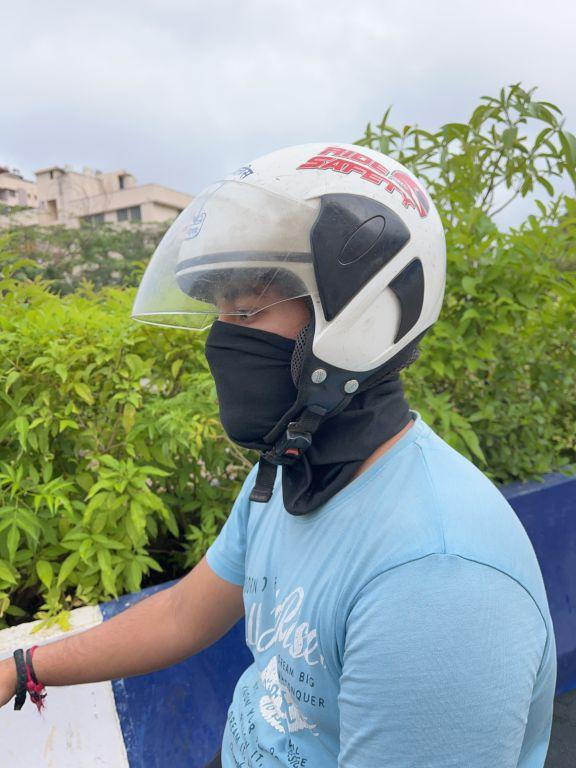helmet: (124, 127, 449, 470)
